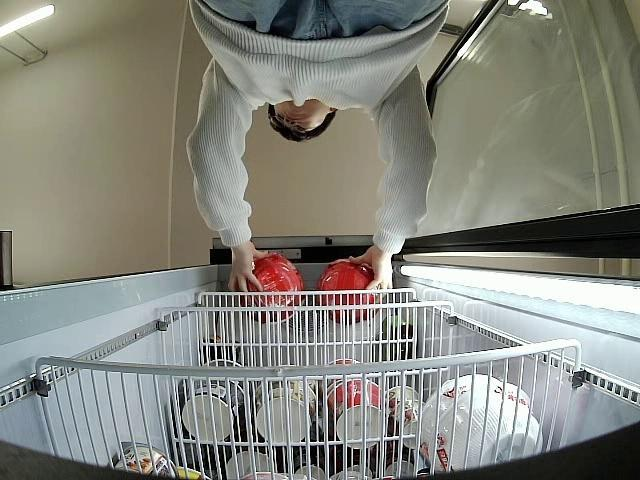10_wangTtukkeong: (238, 254, 306, 326), (316, 260, 379, 322)
